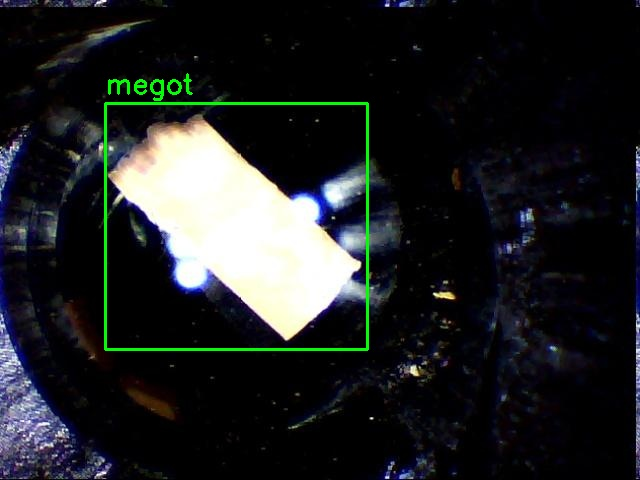megot: (105, 103, 367, 349)
